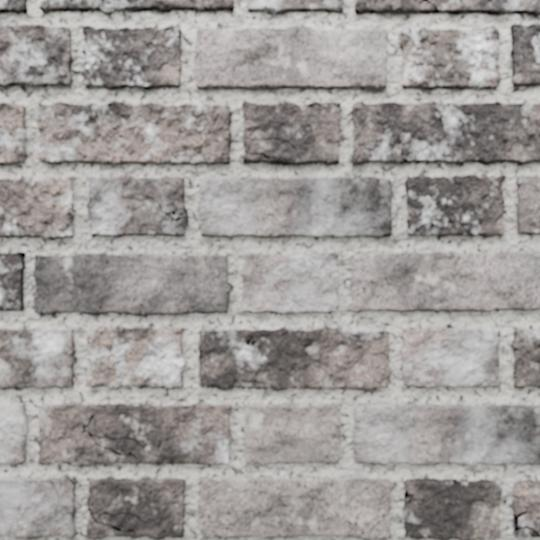brick: (195, 25, 386, 89), (351, 100, 539, 164), (37, 101, 231, 163), (198, 477, 390, 539), (34, 253, 228, 314), (38, 404, 230, 465), (199, 328, 390, 389), (198, 177, 391, 237), (353, 404, 539, 464), (351, 251, 539, 310), (400, 26, 500, 88), (82, 25, 180, 88), (242, 101, 340, 164), (405, 175, 505, 236), (87, 477, 184, 539), (87, 176, 187, 236), (86, 327, 184, 388), (404, 479, 501, 539), (402, 327, 499, 386), (245, 403, 339, 463), (242, 253, 337, 312), (0, 477, 75, 538), (0, 24, 72, 86), (0, 328, 74, 388), (0, 177, 74, 236), (39, 0, 233, 12), (511, 24, 539, 85), (0, 404, 28, 463), (430, 0, 539, 15), (511, 330, 539, 387), (0, 103, 25, 163), (0, 252, 24, 310), (517, 176, 539, 232), (248, 0, 342, 13), (355, 0, 435, 13), (243, 154, 283, 164), (0, 0, 26, 12)
broken_brick: (511, 479, 539, 530), (515, 529, 535, 537)
crack: (87, 507, 145, 536), (152, 197, 187, 224), (513, 509, 539, 537), (243, 134, 294, 147), (243, 150, 288, 164), (232, 379, 278, 389), (49, 478, 61, 514), (418, 0, 437, 11), (404, 486, 414, 504), (405, 534, 423, 539), (67, 476, 75, 484), (65, 0, 72, 9), (45, 0, 51, 9), (385, 191, 392, 198), (39, 133, 47, 137), (496, 331, 500, 337)
